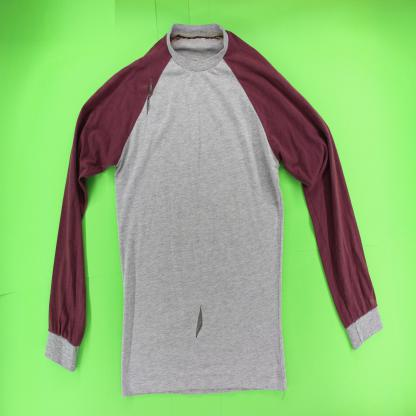hole: (148, 67, 158, 114), (194, 297, 205, 339)
